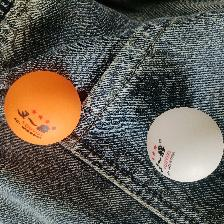WhiteBall: (146, 106, 224, 182)
YellowBall: (4, 70, 81, 146)
